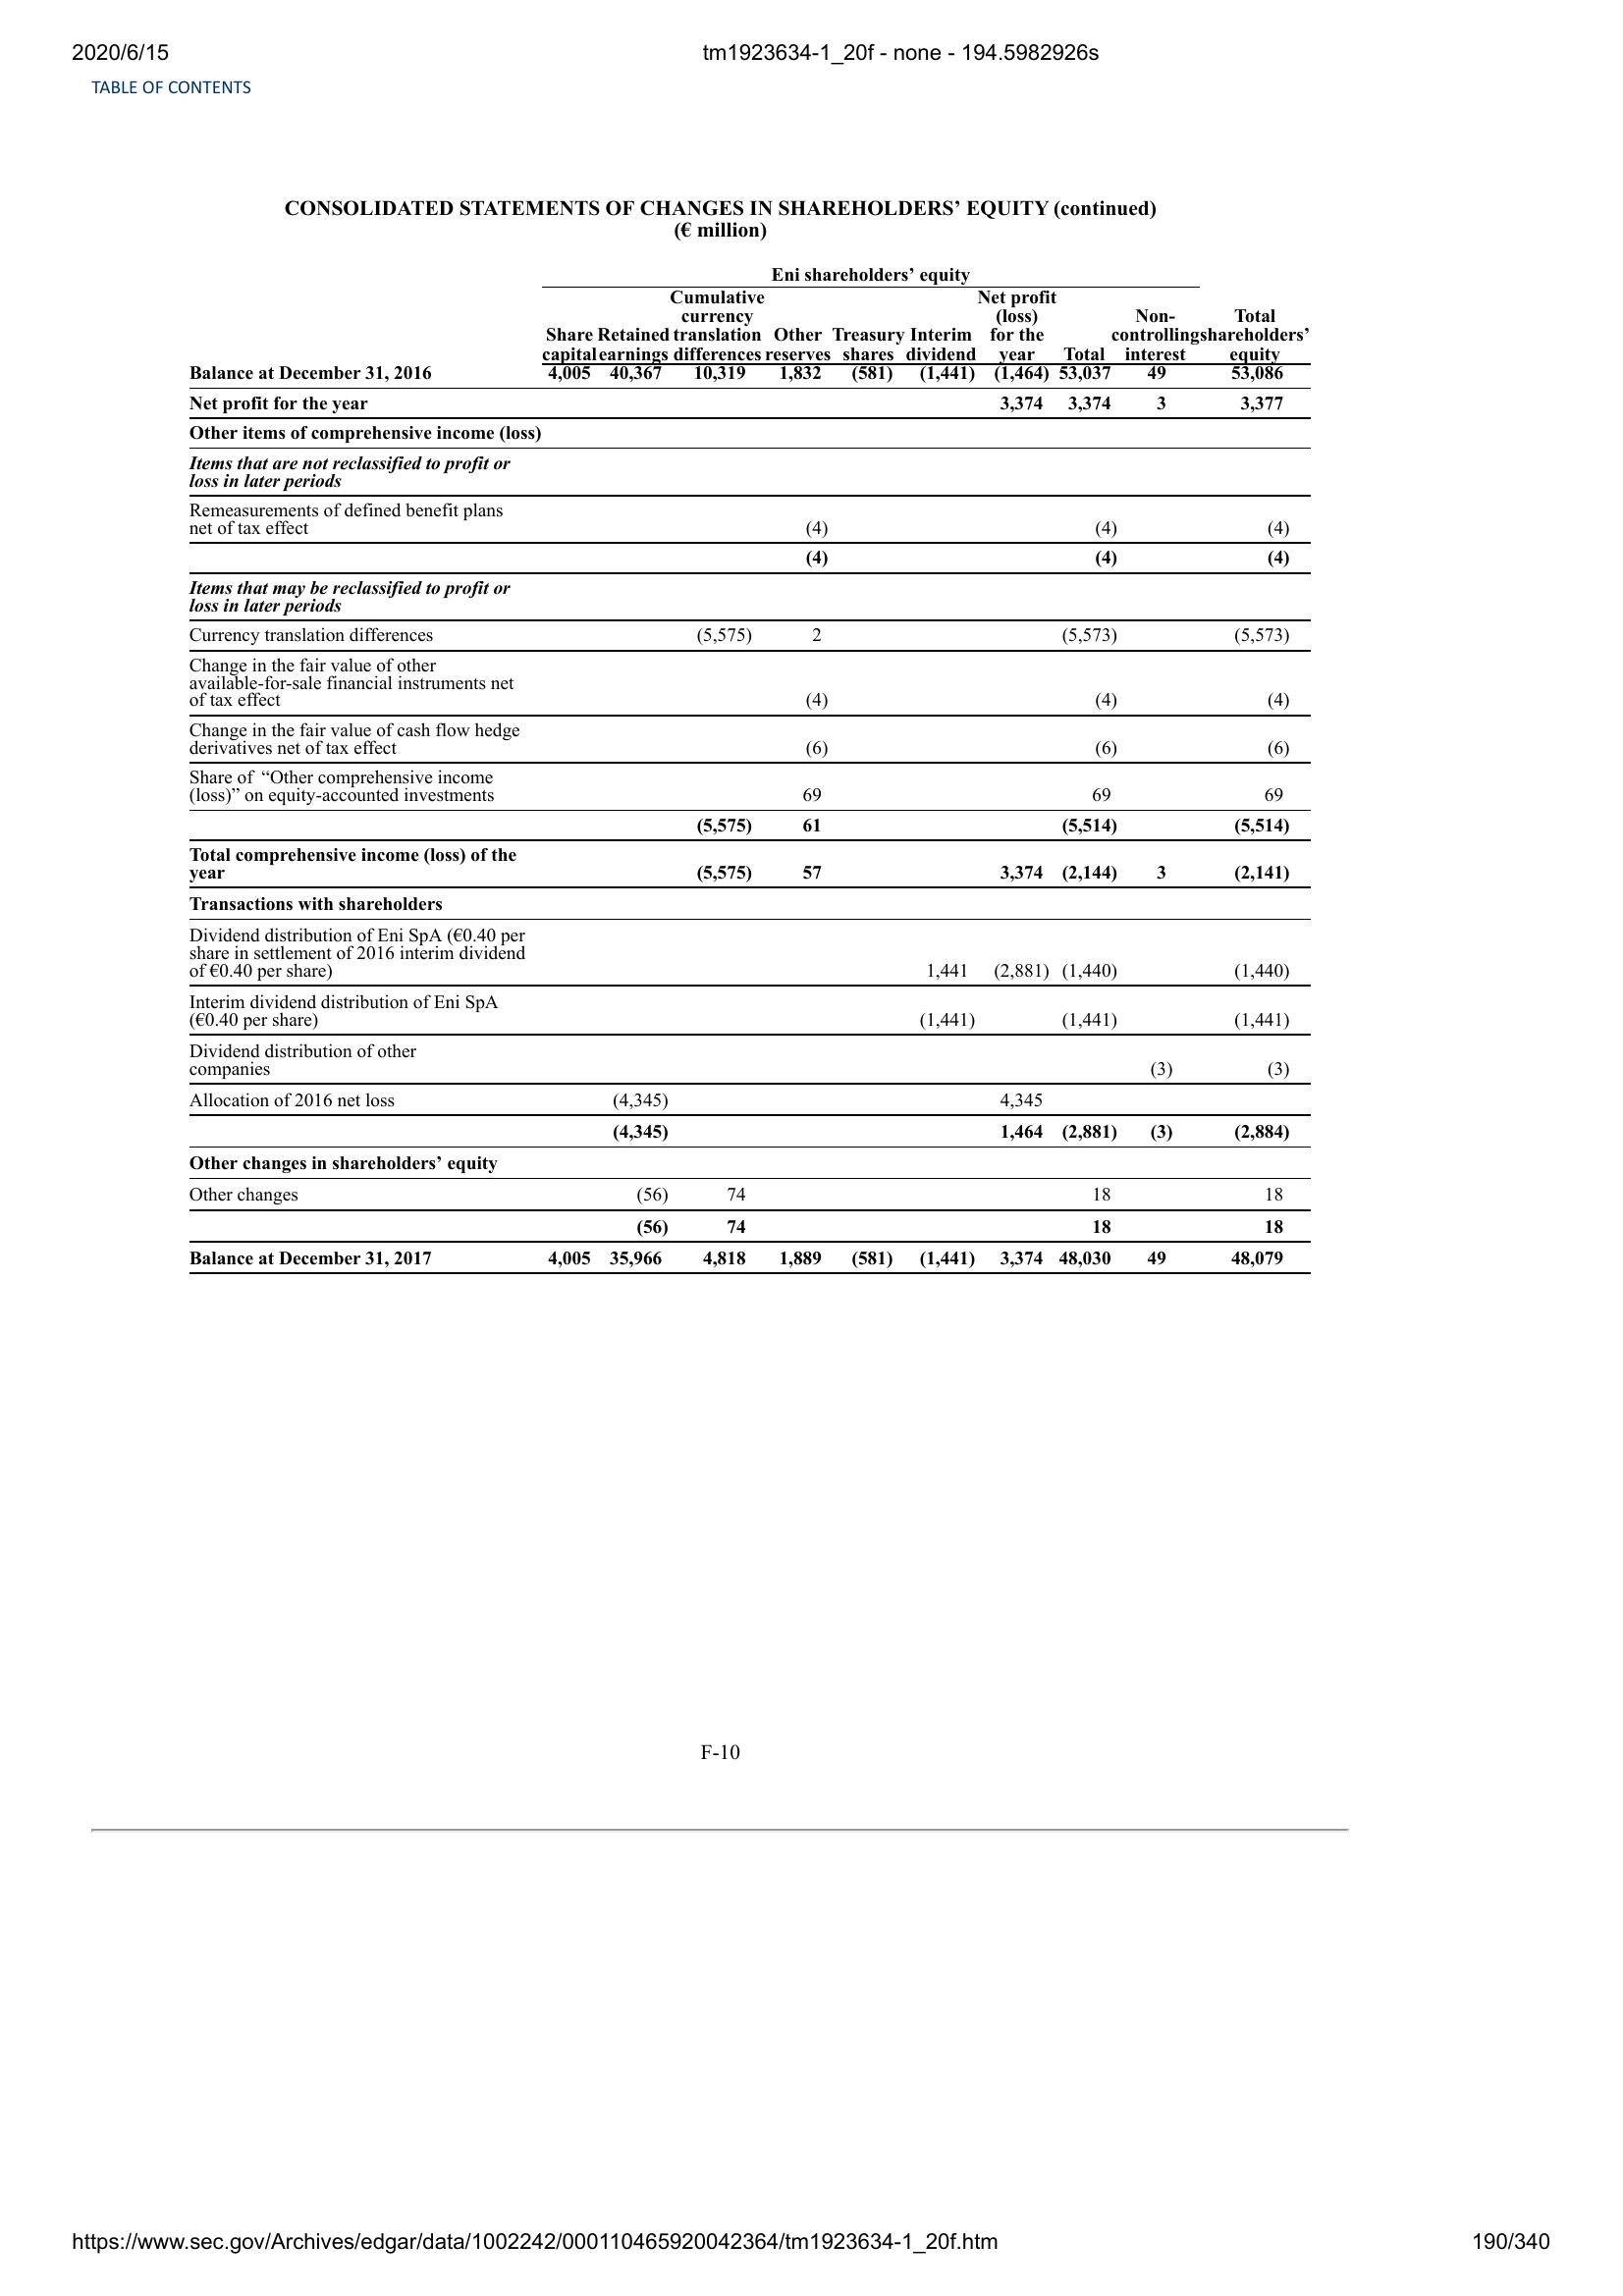table: (181, 262, 1326, 1281)
